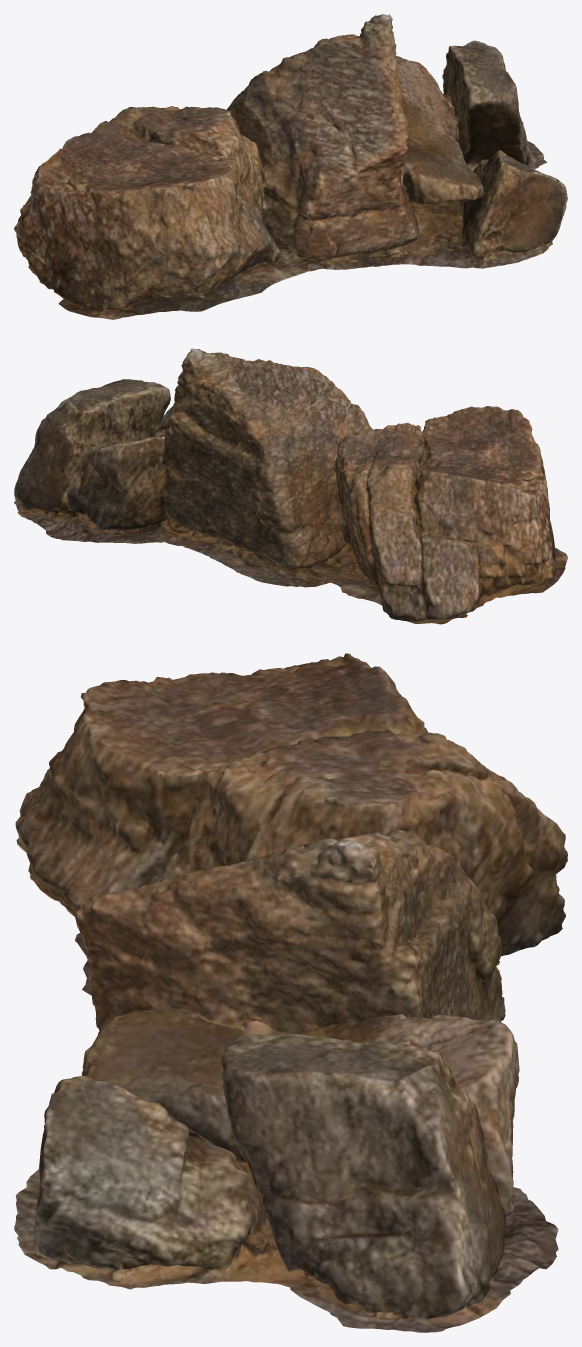
Rendered from namaqualand_boulder_02.glb.
3 views of the same model, one above another, from view 1: azimuth 30°, elevation 25°; view 2: azimuth 150°, elevation 25°; view 3: azimuth 270°, elevation 25° (orthographic). The views are drawn at different scales.
Parts seen in each view (by area): view 1: boulder_02; view 2: boulder_02; view 3: boulder_02.
Boxes of the visible parts, left/top/right/bottom form: boulder_02: left=14, top=14, right=567, bottom=319; boulder_02: left=14, top=348, right=567, bottom=624; boulder_02: left=14, top=653, right=567, bottom=1332.
Bounding box in the file's own units: 2.53 × 0.8826 × 1.23.
Materials: 1 (1 with a texture image).
